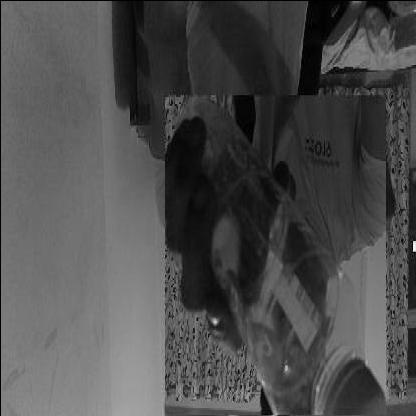plastic_bottles: (164, 95, 385, 413)
